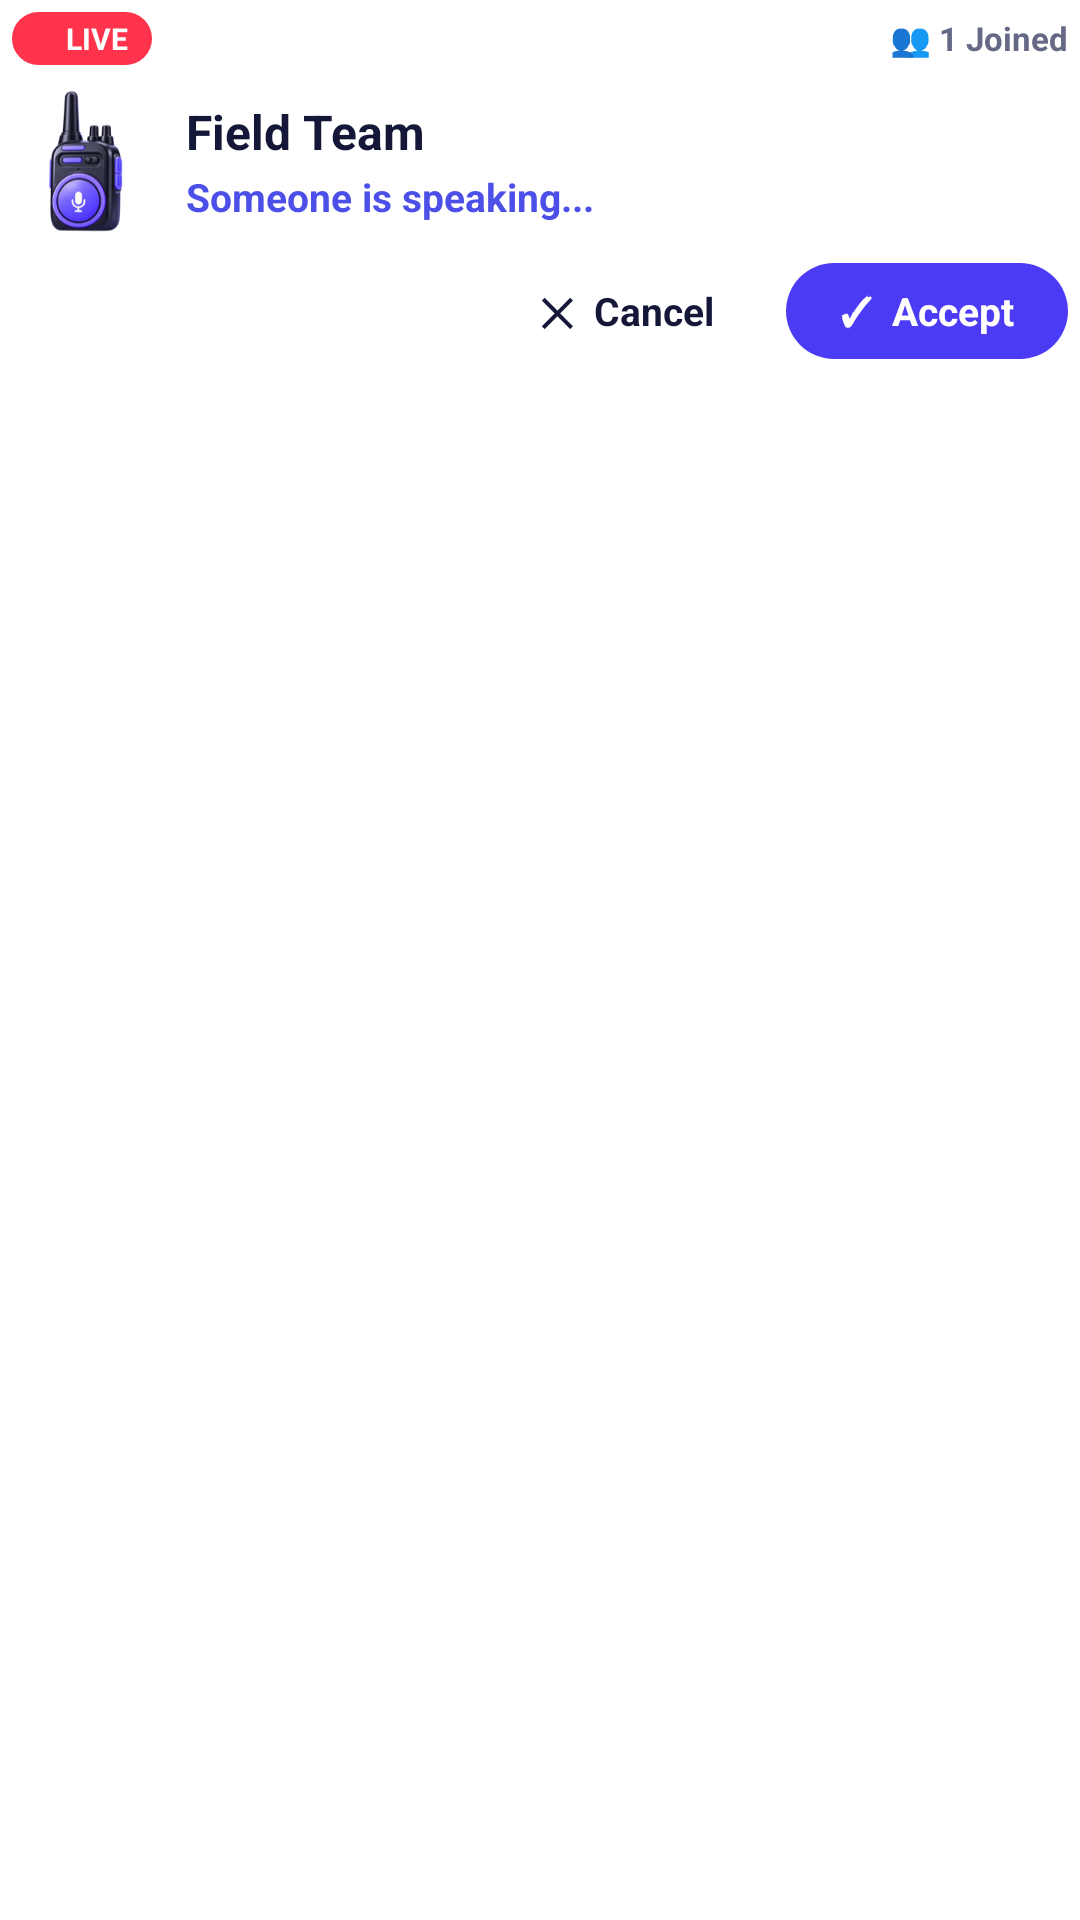

Locate icon controls on the screen. Image size 1080w x 1920h, boxes as (x1=x1, y1=y1, x2=x2, y2=y2).
Walkie Device: (x1=49, y1=91, x2=122, y2=231)
